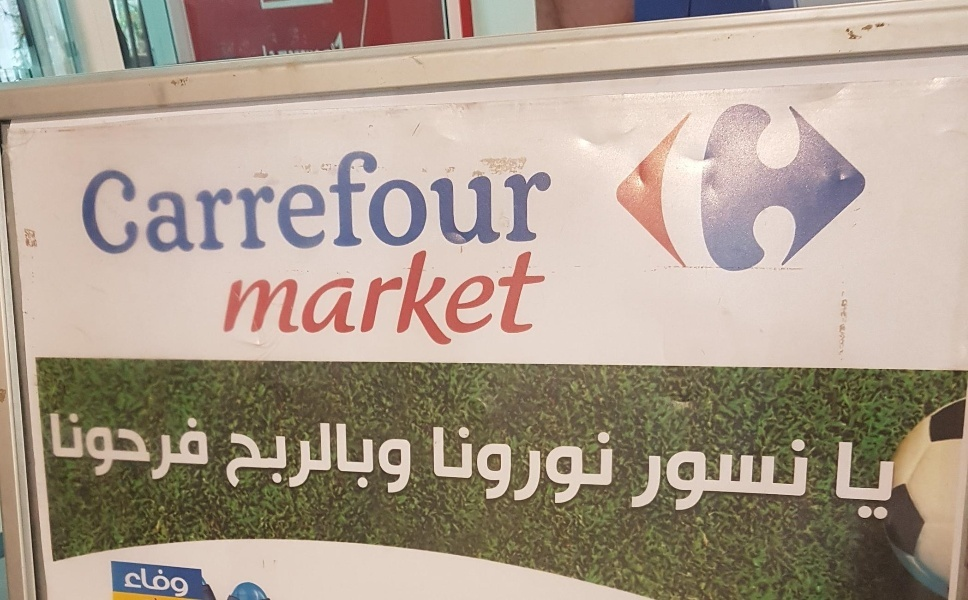text: (65, 141, 80, 259), (81, 141, 96, 259), (97, 141, 112, 259), (113, 141, 128, 259), (129, 141, 144, 259), (145, 141, 160, 259), (161, 141, 176, 259), (177, 141, 192, 259), (193, 141, 208, 259), (209, 141, 224, 259), (225, 141, 240, 259), (241, 141, 256, 259), (257, 141, 272, 259), (273, 141, 288, 259), (289, 141, 304, 259), (305, 141, 320, 259), (321, 141, 336, 259), (337, 141, 352, 259), (353, 141, 368, 259), (369, 141, 384, 259), (385, 141, 400, 259), (401, 141, 416, 259), (417, 141, 432, 259), (433, 141, 448, 259), (449, 141, 464, 259), (465, 141, 480, 259), (481, 141, 496, 259), (497, 141, 512, 259), (513, 141, 528, 259), (529, 141, 544, 259), (225, 242, 240, 349), (241, 242, 256, 349), (257, 242, 272, 349), (273, 242, 288, 349), (289, 242, 304, 349), (305, 242, 320, 349), (321, 242, 336, 349), (337, 242, 352, 349), (353, 242, 368, 349), (369, 242, 384, 349), (385, 242, 400, 349), (401, 242, 416, 349), (417, 242, 432, 349), (433, 242, 448, 349), (449, 242, 464, 349), (465, 242, 480, 349), (481, 242, 496, 349), (497, 242, 512, 349), (513, 242, 528, 349), (529, 242, 544, 349), (545, 242, 560, 349), (641, 433, 656, 518), (657, 433, 672, 518), (673, 433, 688, 518), (689, 433, 704, 518), (705, 433, 720, 518), (721, 433, 736, 518), (737, 433, 752, 518), (753, 433, 768, 518), (769, 433, 784, 518), (785, 433, 800, 518), (433, 424, 448, 507), (449, 424, 464, 507), (465, 424, 480, 507), (481, 424, 496, 507), (497, 424, 512, 507), (513, 424, 528, 507), (529, 424, 544, 507), (545, 424, 560, 507), (561, 424, 576, 507), (577, 424, 592, 507), (593, 424, 608, 507), (849, 441, 864, 523), (865, 441, 880, 523), (881, 441, 896, 523), (49, 407, 64, 483), (65, 407, 80, 483), (81, 407, 96, 483), (97, 407, 112, 483), (113, 407, 128, 483), (129, 407, 144, 483), (145, 407, 160, 483), (161, 407, 176, 483), (177, 407, 192, 483), (193, 407, 208, 483), (241, 421, 256, 492), (257, 421, 272, 492), (273, 421, 288, 492), (289, 421, 304, 492), (305, 421, 320, 492), (321, 421, 336, 492), (337, 421, 352, 492), (353, 421, 368, 492), (545, 141, 554, 259), (801, 433, 812, 518), (385, 436, 400, 496), (401, 436, 416, 496), (216, 242, 224, 349), (228, 421, 240, 492), (630, 433, 640, 518), (839, 441, 848, 523), (369, 421, 379, 492), (609, 424, 617, 507), (129, 566, 144, 600), (145, 566, 160, 600), (161, 566, 176, 600), (177, 566, 192, 600), (379, 436, 384, 496), (897, 441, 899, 523), (209, 407, 211, 483), (47, 407, 48, 483), (126, 566, 128, 600), (193, 566, 195, 600)
